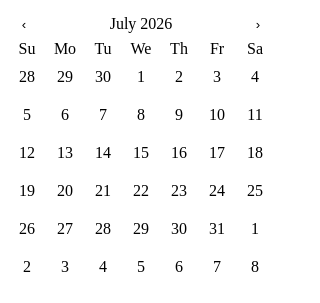
Scenario: Calendar › navigates months
Click the button named "Next month": click(258, 24) [242,8,274,40]
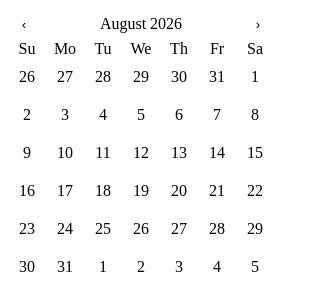
expect the table named "August 2026" is shown: met
